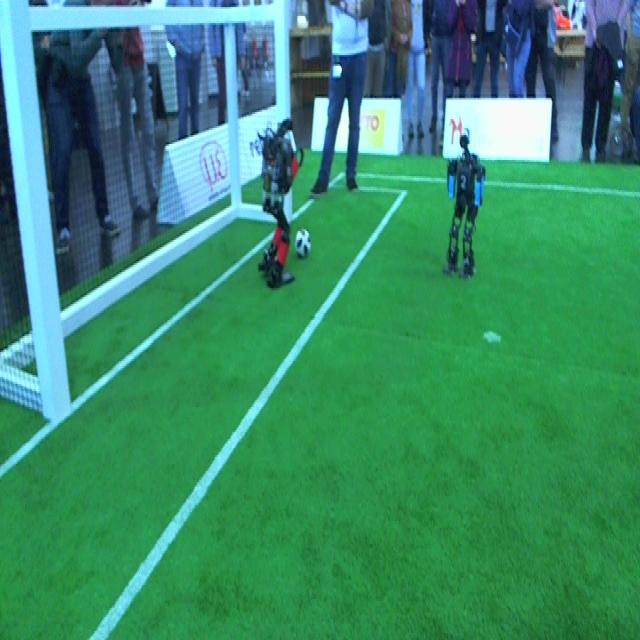ball: (294, 226, 312, 260)
goalpost: (1, 0, 74, 425), (274, 2, 293, 226)
